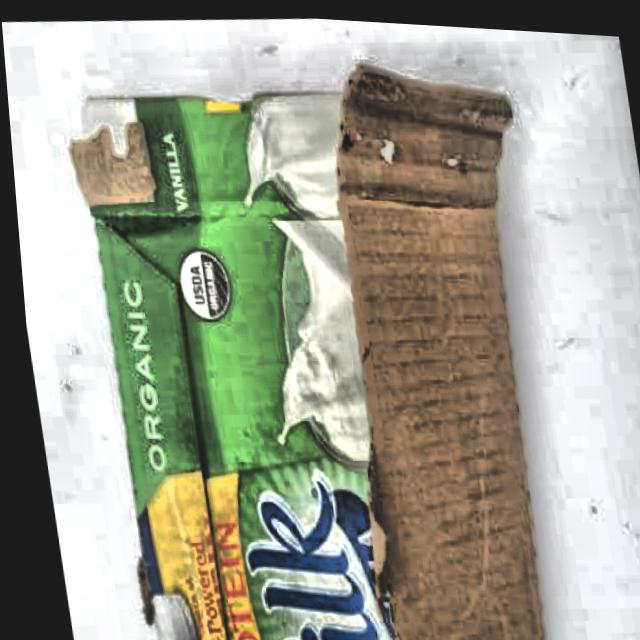Cardbox: (25, 17, 583, 640)
